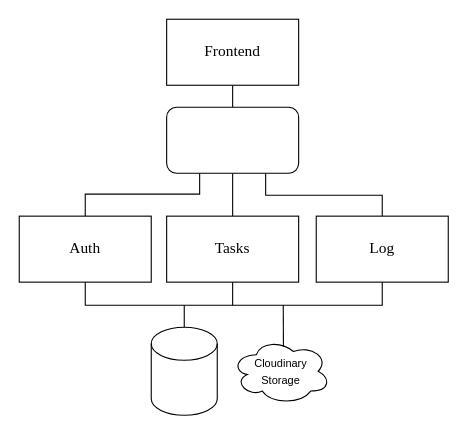
This 468x435 diagram has some shape labels left out. Each missing label, with the centre of its shape:
"Gateway" goes at (232,139).
"Postgres SQL" goes at (183,370).
